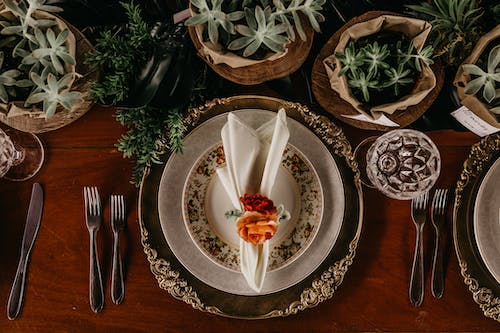knife: (5, 180, 46, 322)
